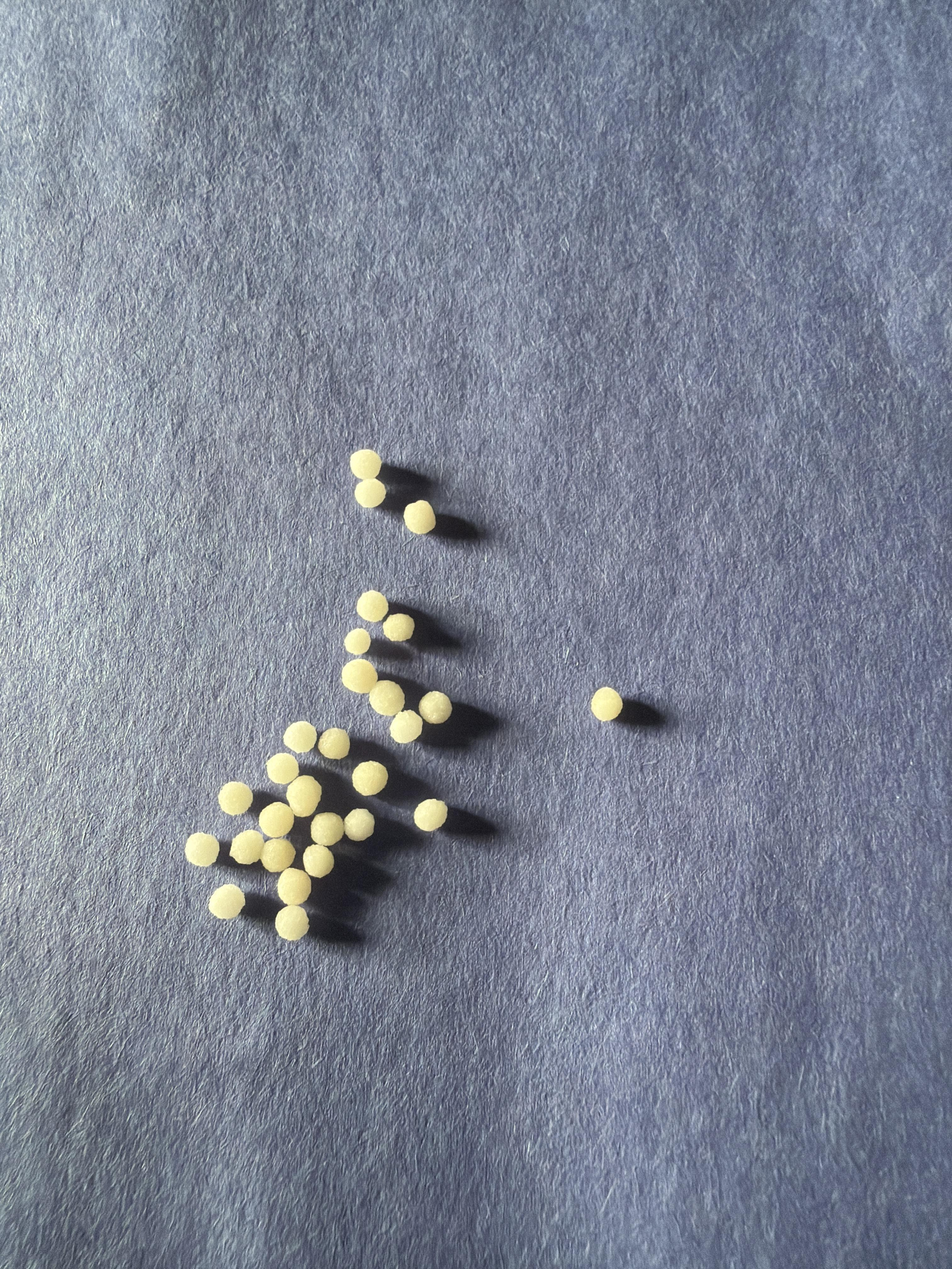pill: (350, 449, 386, 507), (286, 776, 321, 817), (208, 883, 245, 919), (368, 680, 404, 717), (277, 867, 311, 905), (352, 761, 388, 796), (341, 659, 377, 694), (258, 802, 294, 837), (275, 905, 309, 941), (229, 830, 264, 864), (185, 832, 219, 867), (218, 781, 252, 816), (389, 710, 422, 744), (418, 691, 452, 724), (283, 720, 317, 753), (310, 813, 344, 846), (414, 799, 448, 832), (591, 686, 623, 721), (261, 839, 294, 872), (404, 500, 436, 534), (266, 752, 299, 784), (356, 590, 388, 623), (303, 844, 334, 878), (318, 728, 350, 760), (343, 809, 374, 841), (350, 449, 381, 480), (354, 478, 386, 508), (382, 613, 415, 641), (344, 628, 371, 656)
